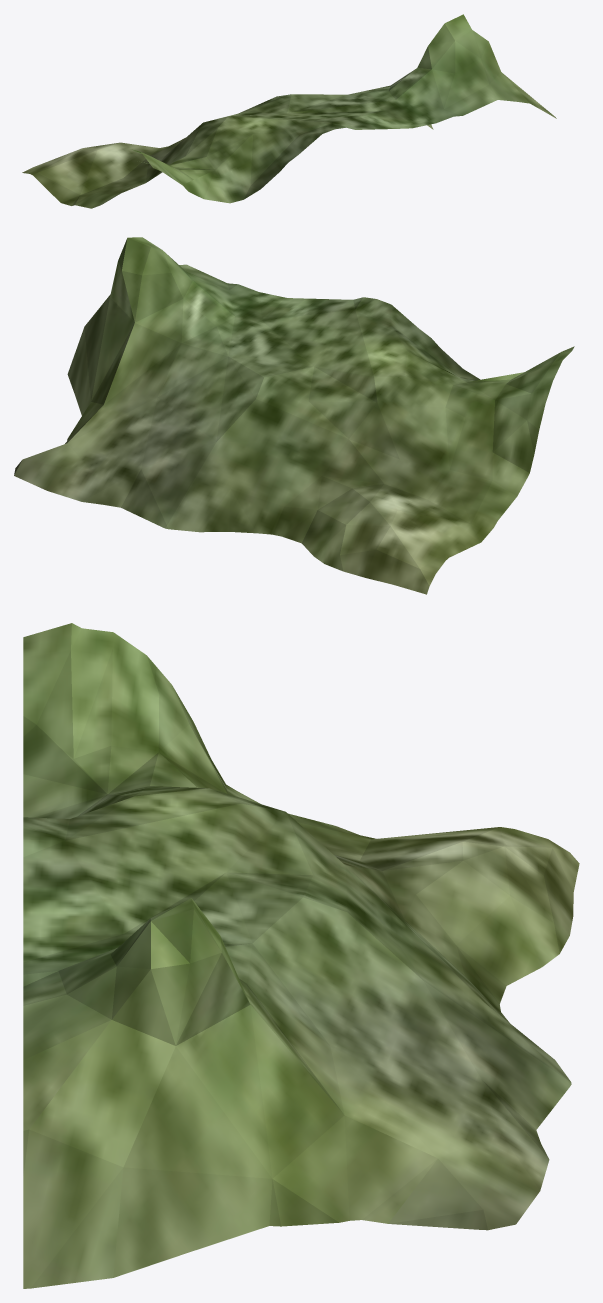
3 renders of one model, top to bottom at view 1: azimuth 30°, elevation 25°; view 2: azimuth 150°, elevation 25°; view 3: azimuth 270°, elevation 25°, orthographic. The views are drawn at different scales.
Bounding box in the file's own units: 1.97 × 0.6464 × 1.09.
Materials: 1 (1 with a texture image).
